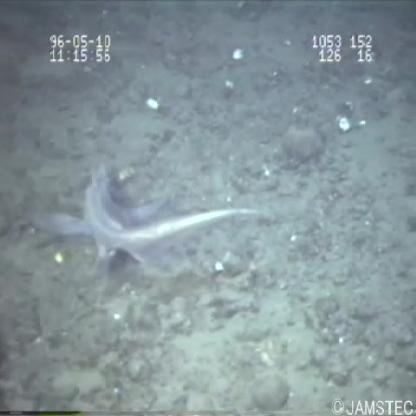Bio: (23, 158, 285, 278)
